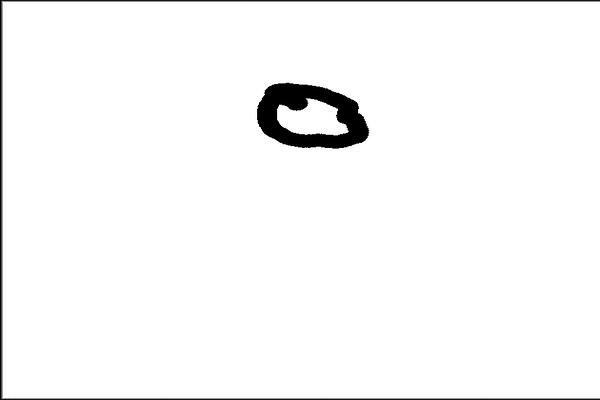O: (242, 67, 371, 160)
